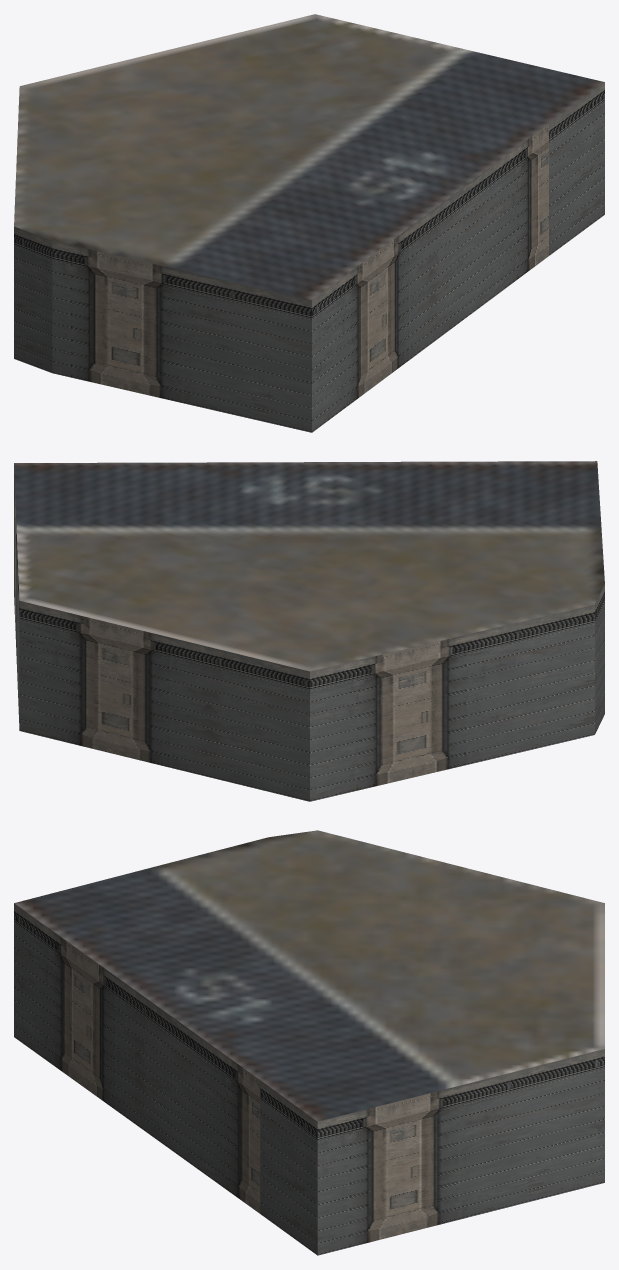
Rendered from hangar_light_51.glb.
The picture shows the model from 3 angles, top to bottom: view 1: azimuth 30°, elevation 25°; view 2: azimuth 150°, elevation 25°; view 3: azimuth 270°, elevation 25°; orthographic projection. The views are drawn at different scales.
Parts seen in each view (by area): view 1: buildings/saxarba/hangar_light/hangar_light_51; view 2: buildings/saxarba/hangar_light/hangar_light_51; view 3: buildings/saxarba/hangar_light/hangar_light_51.
Part boxes in pixels (x1,y1,x2,y2): buildings/saxarba/hangar_light/hangar_light_51: (14, 14, 604, 432); buildings/saxarba/hangar_light/hangar_light_51: (14, 461, 604, 801); buildings/saxarba/hangar_light/hangar_light_51: (14, 830, 604, 1255).
Bounding box in the file's own units: 84 × 18 × 72.
